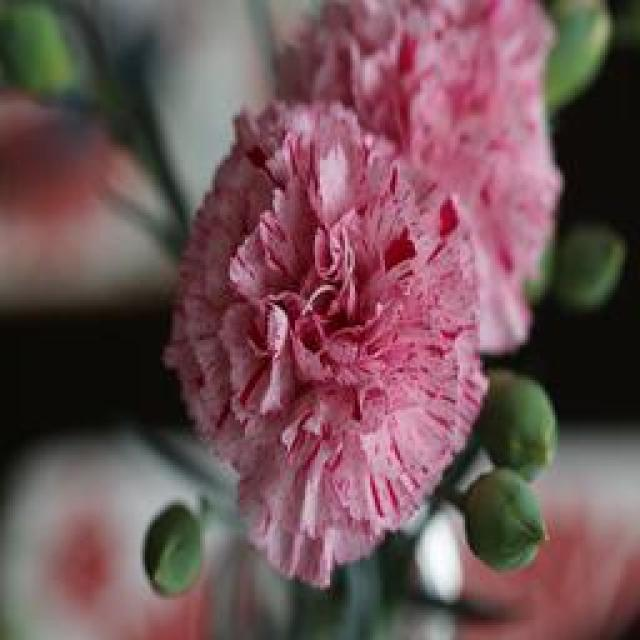carnation: (160, 75, 509, 566)
